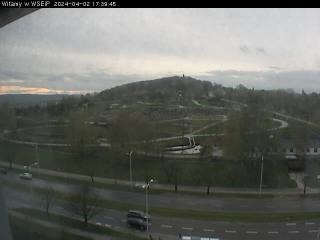car: (126, 215, 149, 230), (126, 209, 149, 221), (18, 171, 32, 180), (0, 166, 8, 174)
